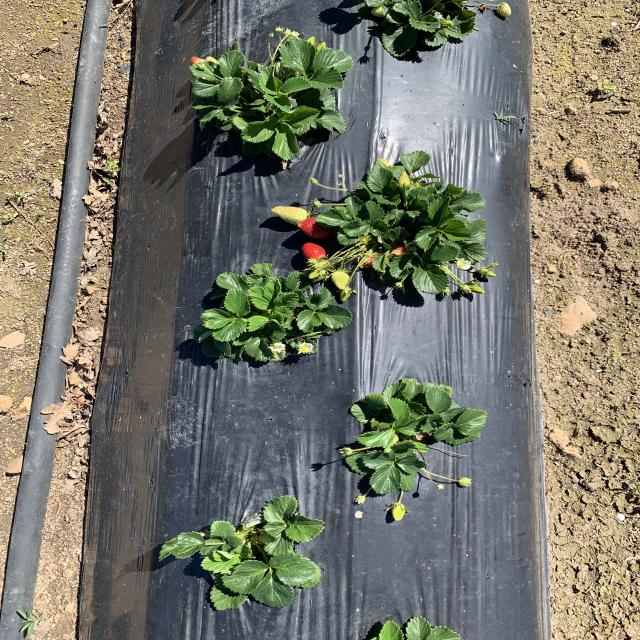unripe: (296, 217, 338, 240), (301, 241, 328, 262)
